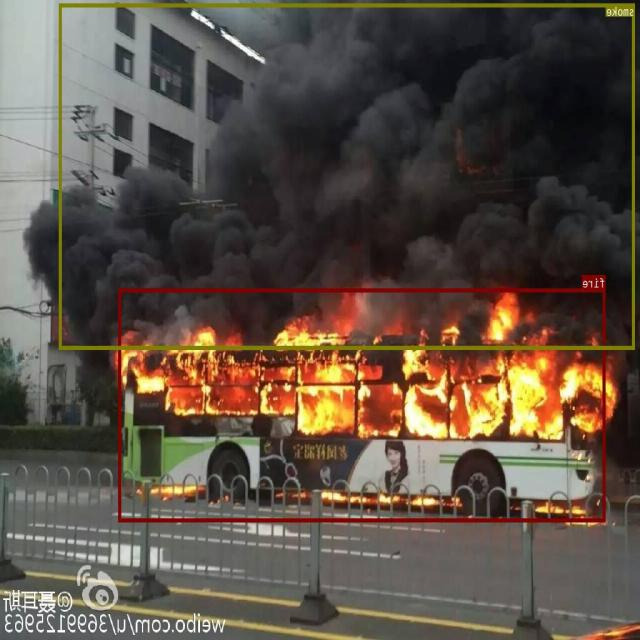fire: (119, 288, 606, 522)
smoke: (60, 3, 635, 348)
